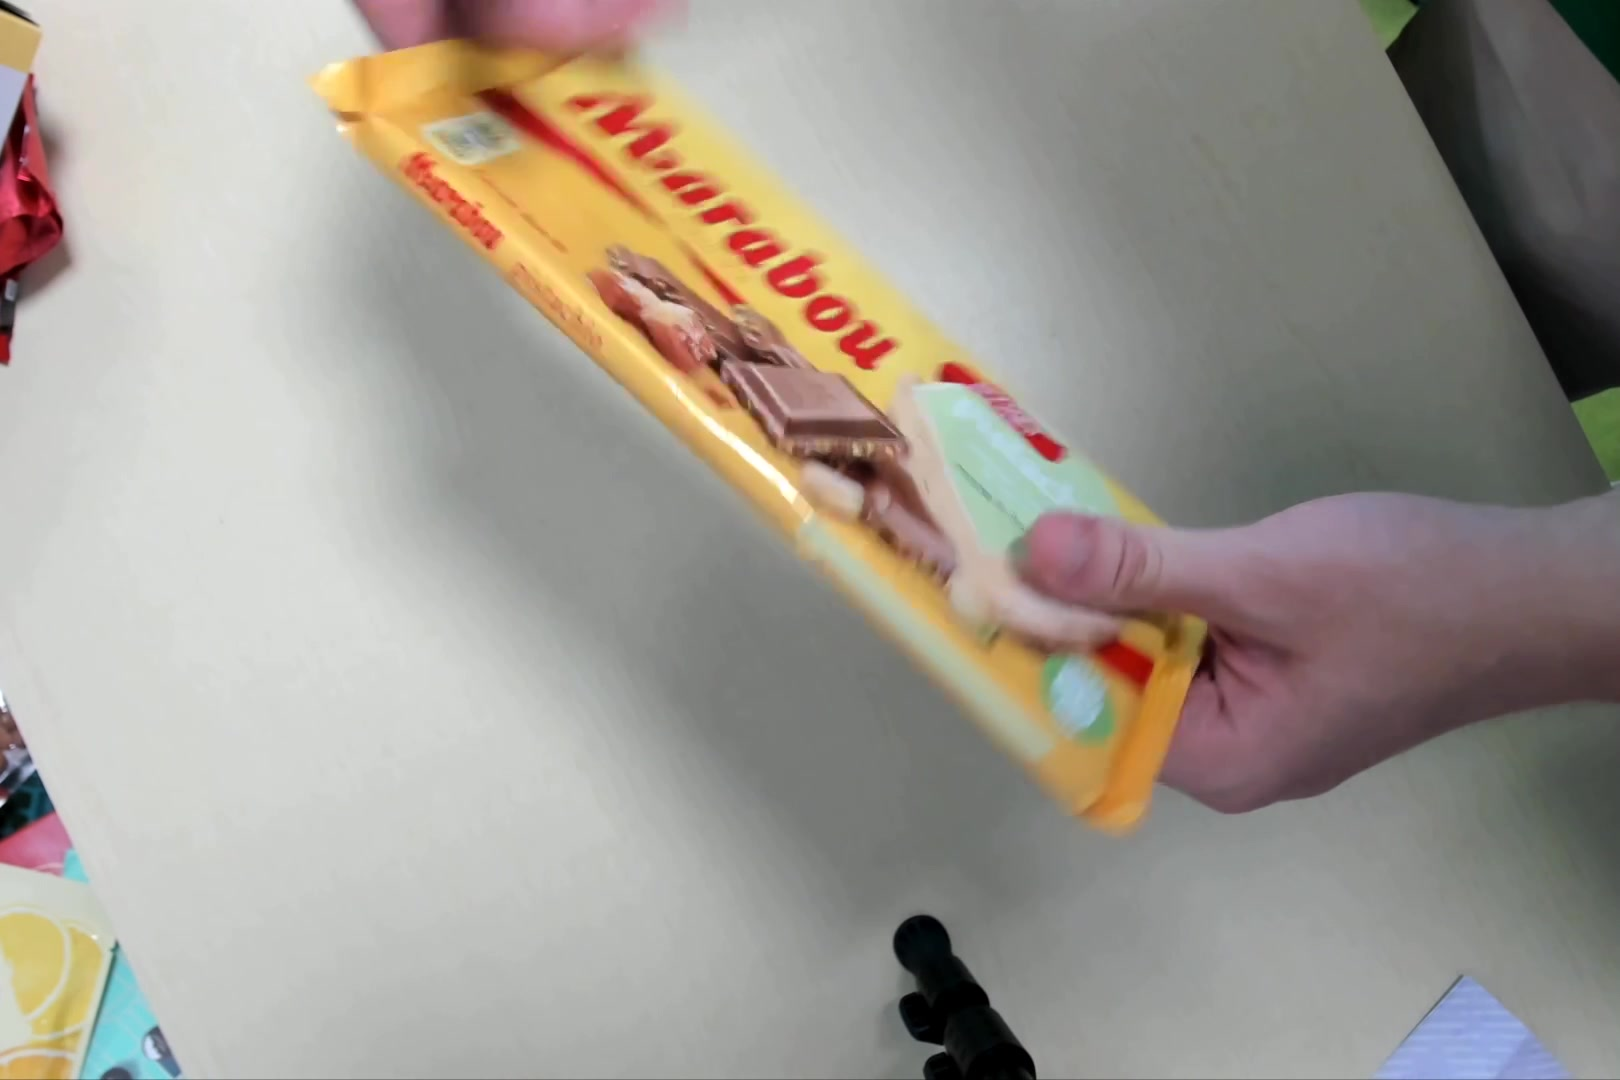SweetsChocolatesOthers_100-199g_NonHalal_NonHealthy: (309, 25, 1213, 821)
